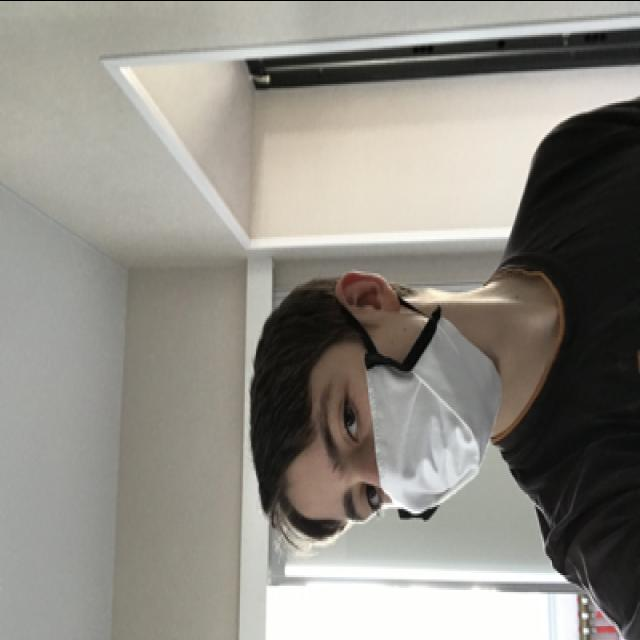mask: (312, 310, 501, 522)
